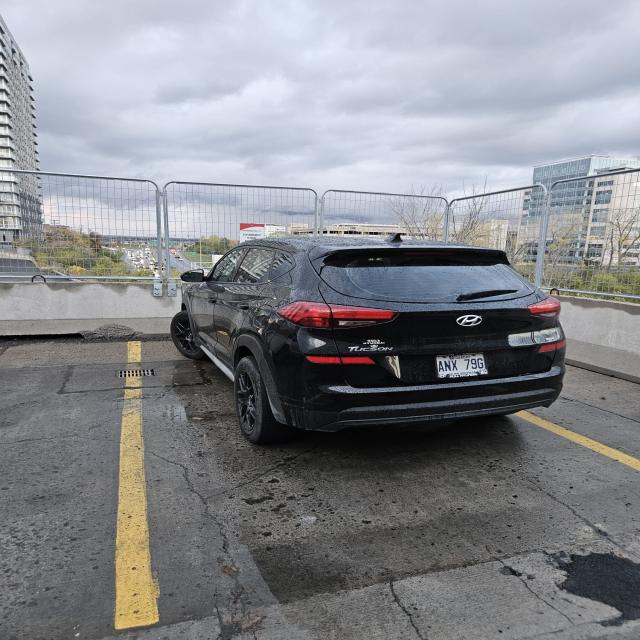plaque: (436, 353, 488, 378)
